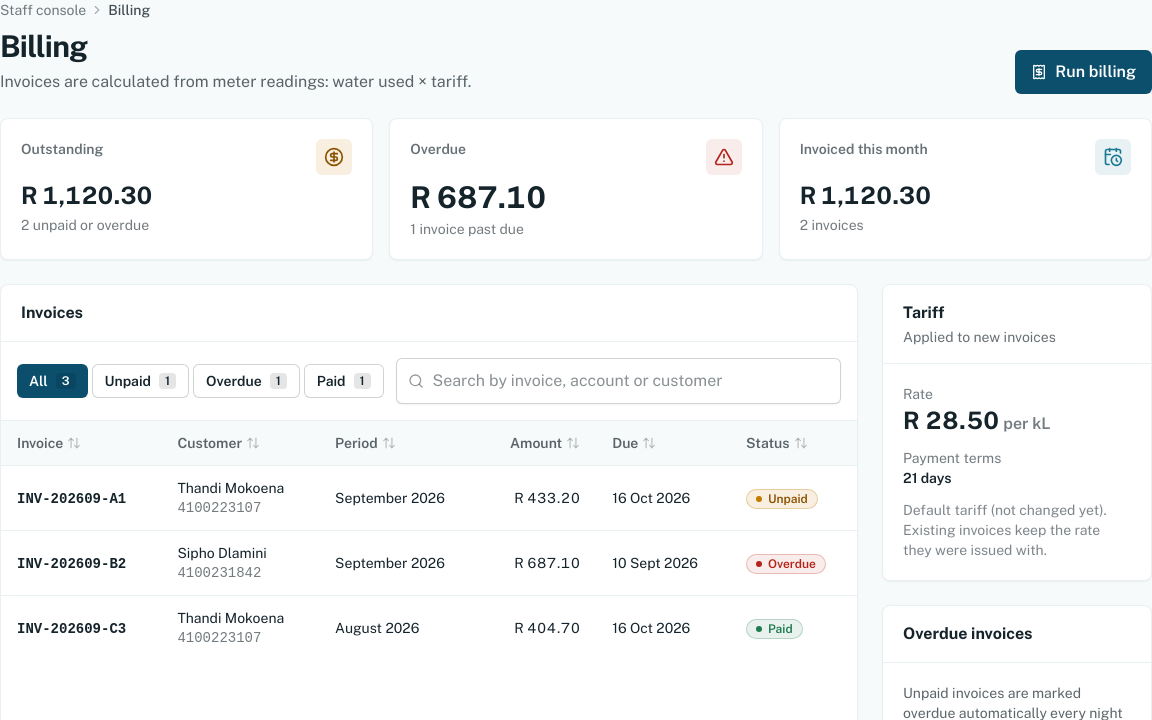
Test case: BillingPage › shows the server’s message if the run fails
The width and height of the screenshot is (1152, 720).
Click the button "Run billing" at (1084, 72), box top-left (1015, 50), bottom-right (1151, 94)
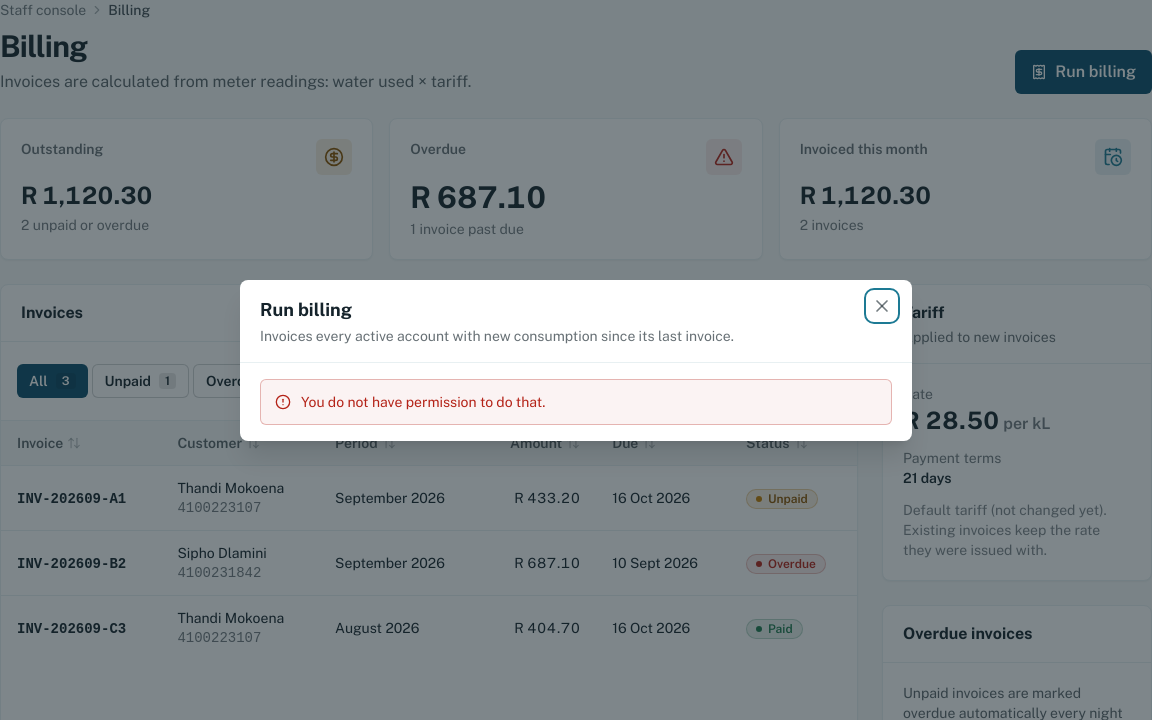
Now the text "You do not have permission to do that." is shown, box top-left (301, 392), bottom-right (545, 412)
